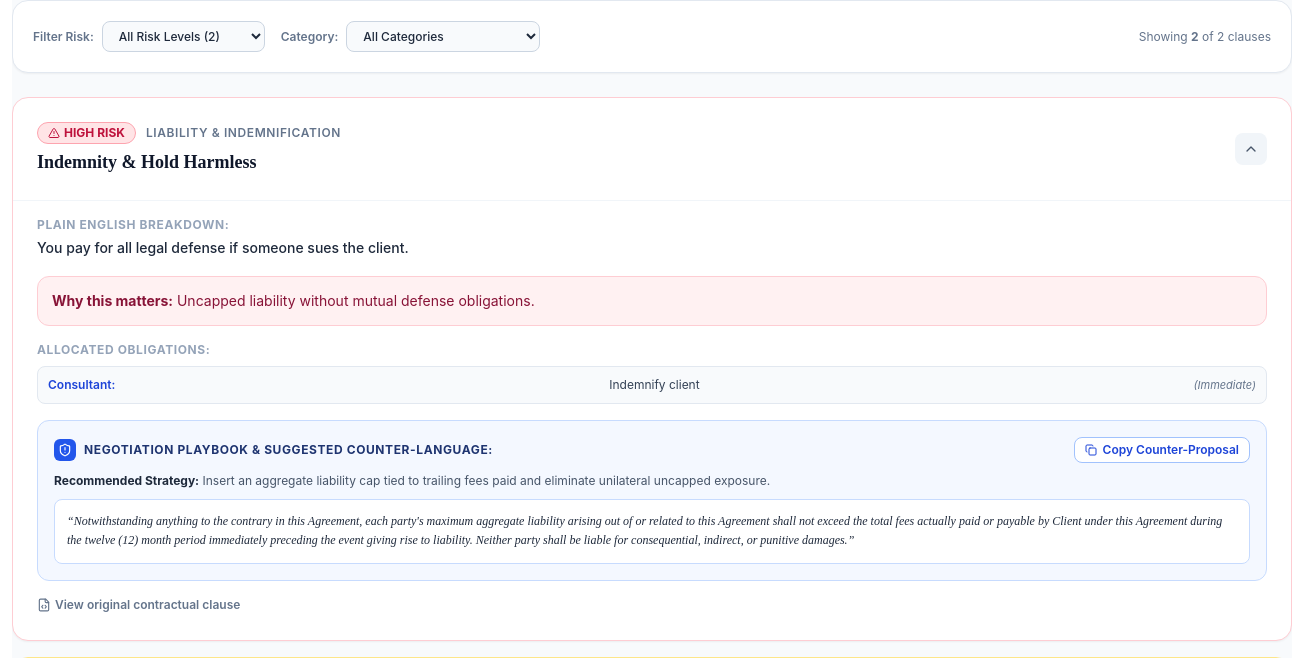
React UI Components › ClauseList Component › renders clauses with negotiation playbook and copies counter-proposal
Expected: the heading "Indemnity & Hold Harmless" is shown, left=37, top=152, right=256, bottom=172
Expected: the text "HIGH RISK" is shown, left=37, top=122, right=136, bottom=144
Click the button "Copy Counter-Proposal": (1162, 450) left=1074, top=437, right=1250, bottom=463
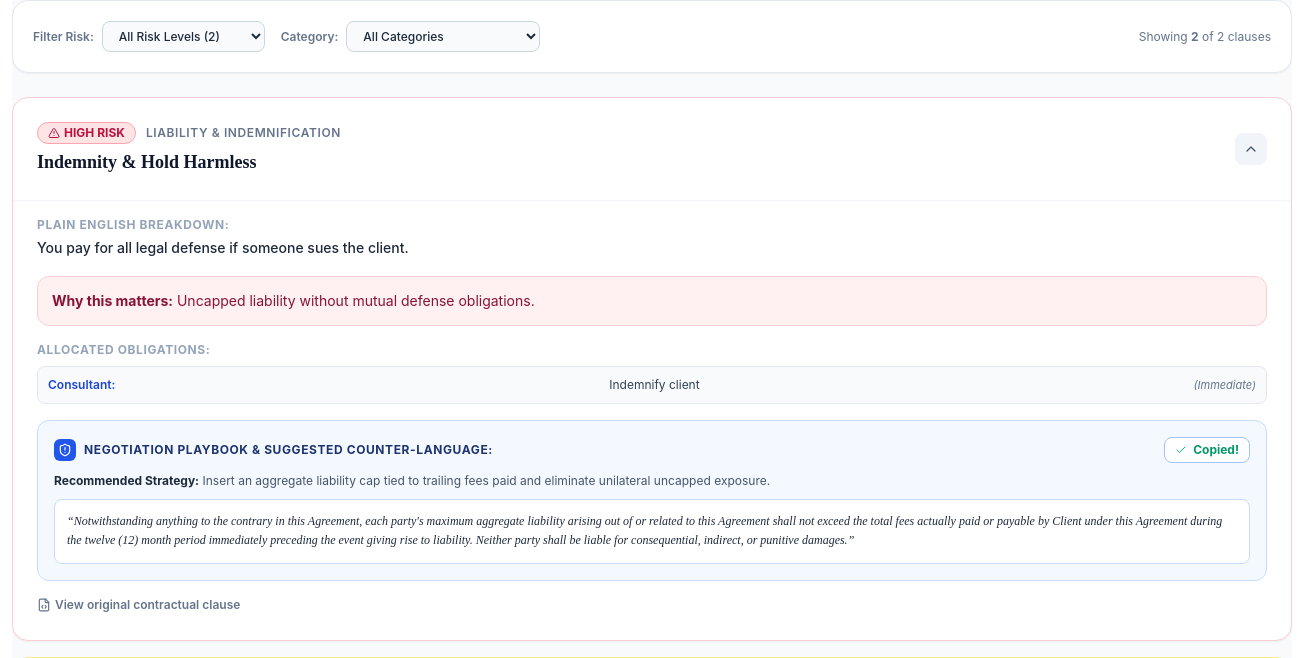
Result: the text "Copied!" is shown at left=1193, top=442, right=1239, bottom=458
